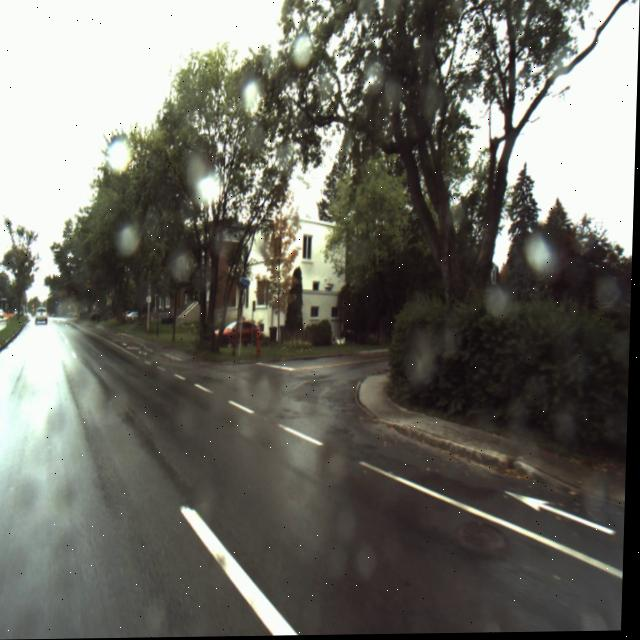car: (215, 321, 264, 350), (36, 307, 51, 326)
